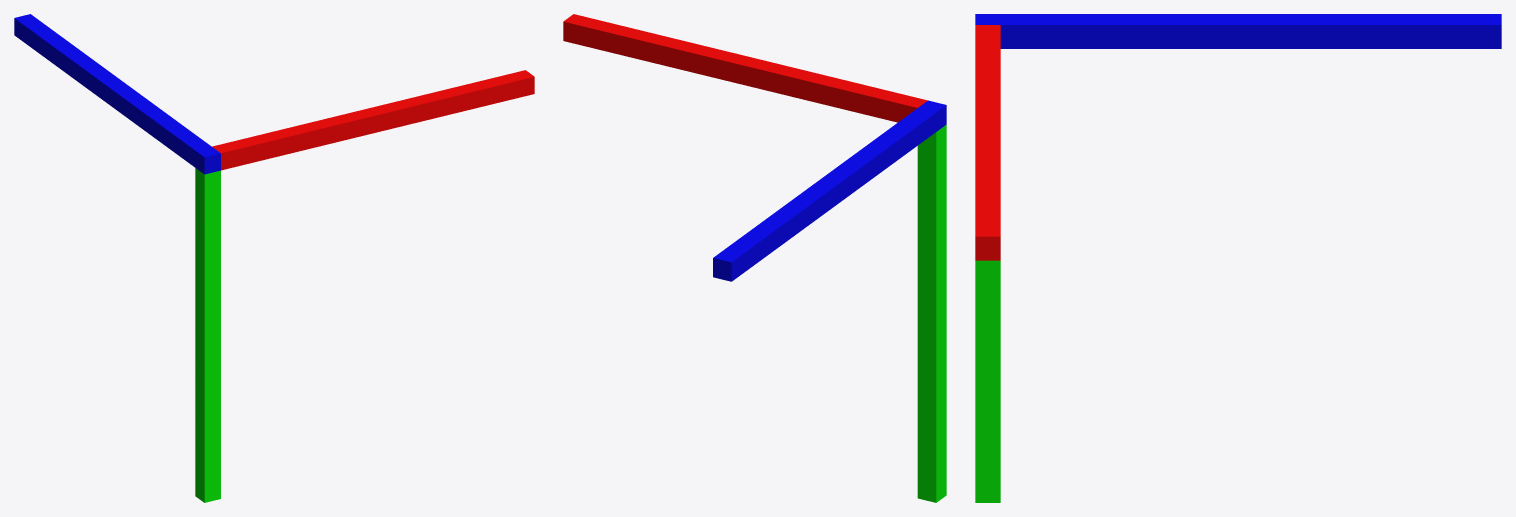
The model's file is Axis.gltf.
3 renders of one model, left to right at view 1: azimuth 30°, elevation 25°; view 2: azimuth 150°, elevation 25°; view 3: azimuth 270°, elevation 25°, orthographic. The views are drawn at different scales.
Visible parts, largest first — view 1: 立方體.006, 立方體.007, 立方體; view 2: 立方體.006, 立方體.007, 立方體; view 3: 立方體, 立方體.006, 立方體.007.
Part boxes in pixels (bbox=[...]): 立方體.006: bbox=[195, 168, 220, 502]; 立方體.007: bbox=[212, 70, 534, 170]; 立方體: bbox=[14, 14, 220, 174]; 立方體.006: bbox=[917, 125, 946, 502]; 立方體.007: bbox=[563, 14, 927, 122]; 立方體: bbox=[713, 100, 946, 281]; 立方體: bbox=[975, 14, 1501, 48]; 立方體.006: bbox=[975, 260, 1000, 502]; 立方體.007: bbox=[975, 25, 1000, 260].
Size of the model in its own units: 0.6313 by 0.6315 by 0.6303.
